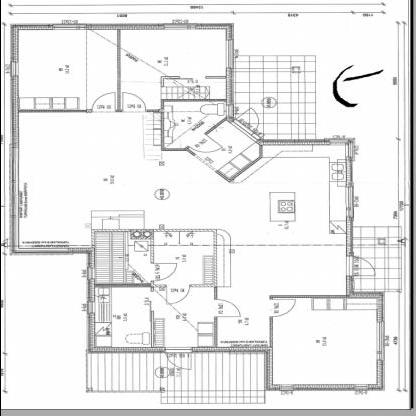door: (231, 106, 261, 138), (162, 347, 196, 373), (187, 130, 225, 153), (342, 253, 375, 278), (89, 89, 117, 117), (147, 258, 179, 282), (120, 90, 150, 115), (214, 296, 244, 320), (267, 297, 297, 319), (162, 282, 192, 304)
window: (323, 131, 357, 165), (370, 318, 389, 364), (48, 19, 92, 35), (222, 37, 238, 75), (343, 185, 357, 221), (4, 58, 23, 84), (160, 21, 204, 31), (81, 263, 99, 283), (82, 299, 99, 317), (222, 103, 236, 119)
